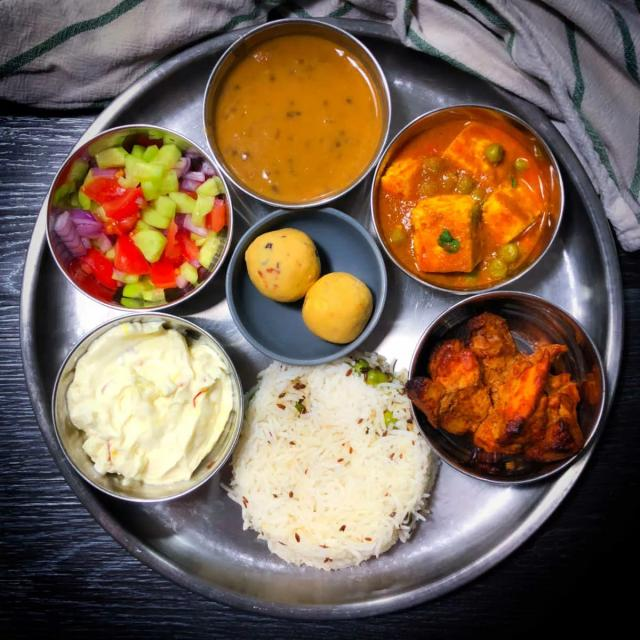non veg meals: (24, 11, 622, 590)
